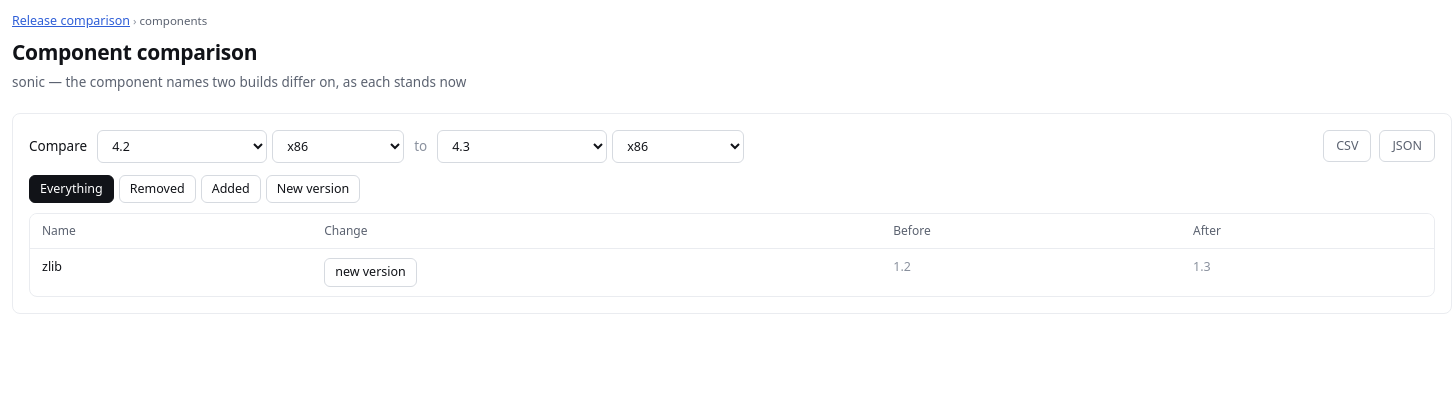
it: comparing the components of two builds › says a kind with nothing in it is empty, and offers everything back
Click the button "Removed" at {"x": 157, "y": 189}, box [119,174,196,203]
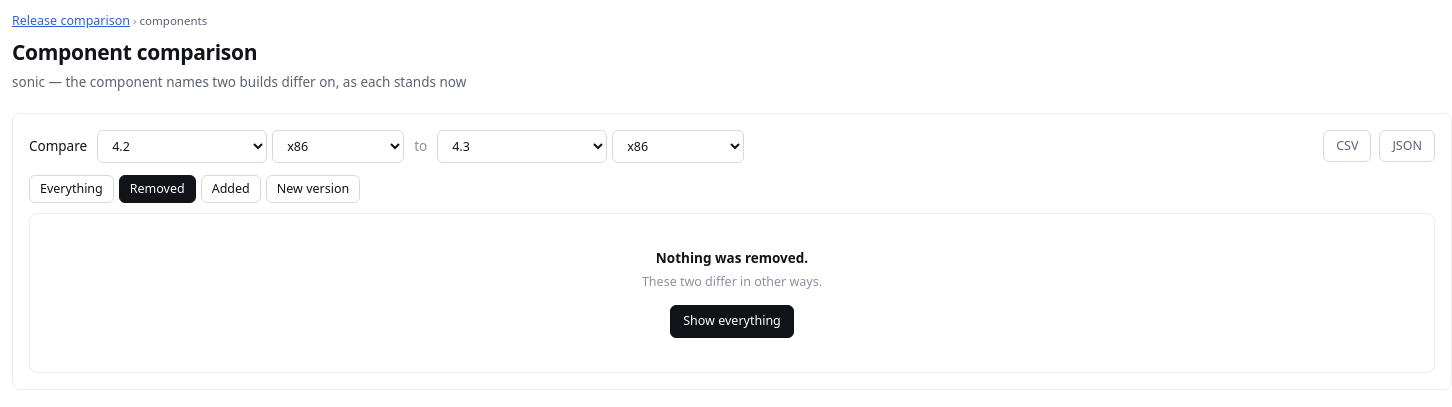
expect the text "Nothing was removed." is shown: met, box [656,249,808,267]
Click the button "Show everything" at {"x": 732, "y": 322}, box [670,305,794,338]
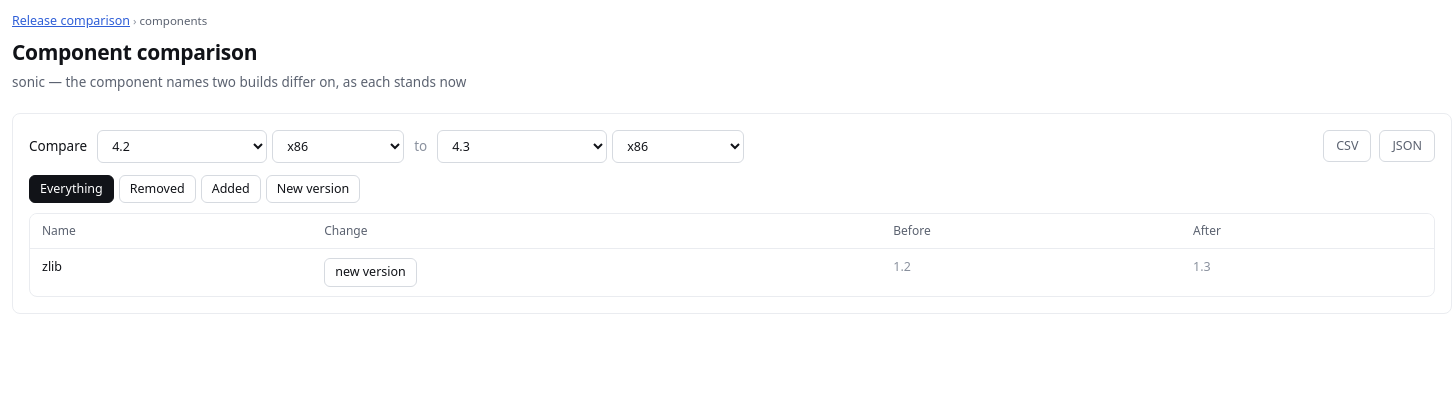
expect the text "zlib" is shown: met, box [42,258,62,275]
